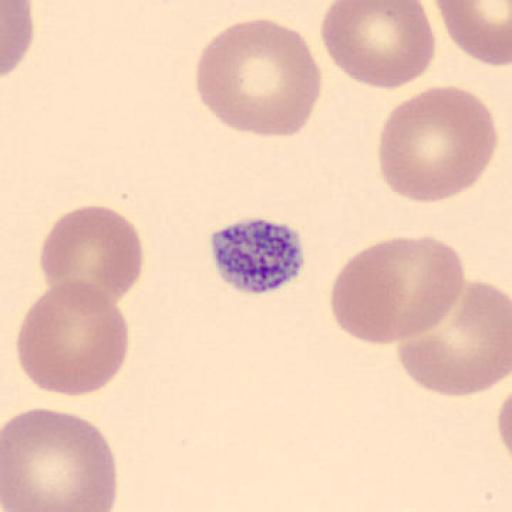Platelet: (206, 214, 310, 296)
RBC: (328, 234, 470, 346), (196, 16, 324, 140), (377, 84, 499, 204), (16, 279, 130, 398), (397, 282, 512, 399), (2, 408, 120, 512), (38, 202, 144, 308), (329, 236, 429, 346), (319, 0, 437, 90), (434, 0, 512, 68), (1, 0, 35, 79), (496, 368, 512, 466), (496, 383, 512, 458)
